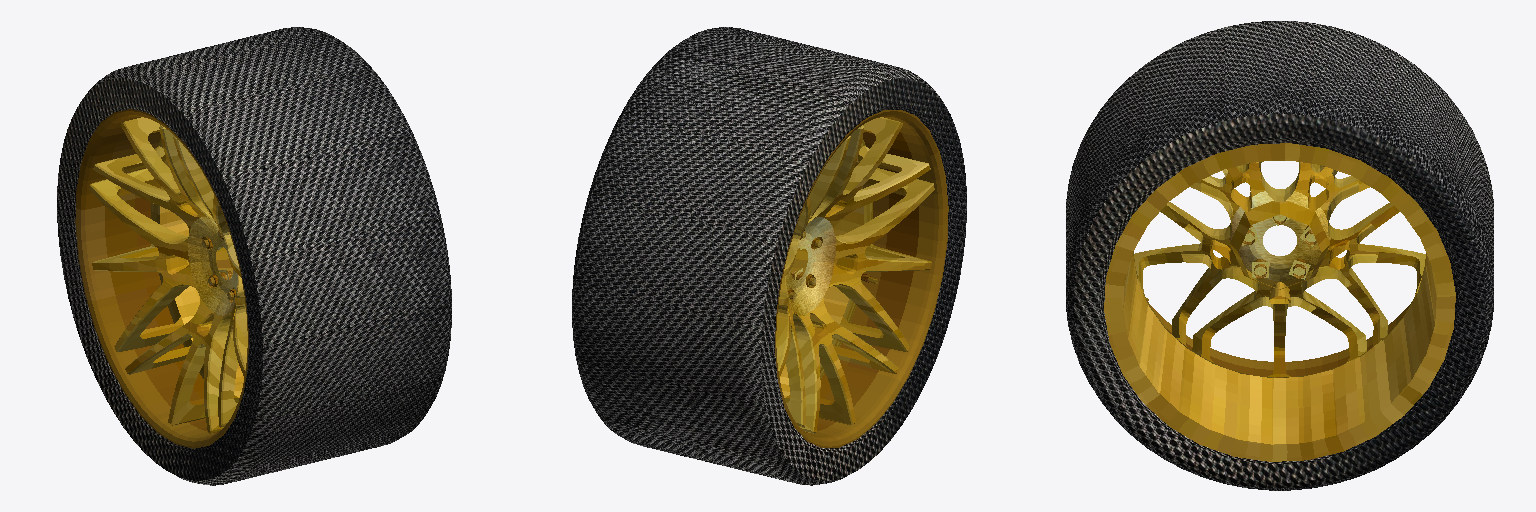
3 views of the same model, side by side, from view 1: azimuth 30°, elevation 25°; view 2: azimuth 150°, elevation 25°; view 3: azimuth 270°, elevation 25° (orthographic).
Parts seen in each view (by area): view 1: Llanta1, Rin4; view 2: Llanta1, Rin4; view 3: Llanta1, Rin4.
Part boxes in pixels (x1,y1,x2,y2): Llanta1: (57,27,451,485); Rin4: (75,109,248,448); Llanta1: (572,27,966,485); Rin4: (775,110,948,447); Llanta1: (1066,21,1493,490); Rin4: (1104,143,1455,461).
Bounding box in the file's own units: 2.93 × 5.66 × 5.66.
2 materials, 2 textured.